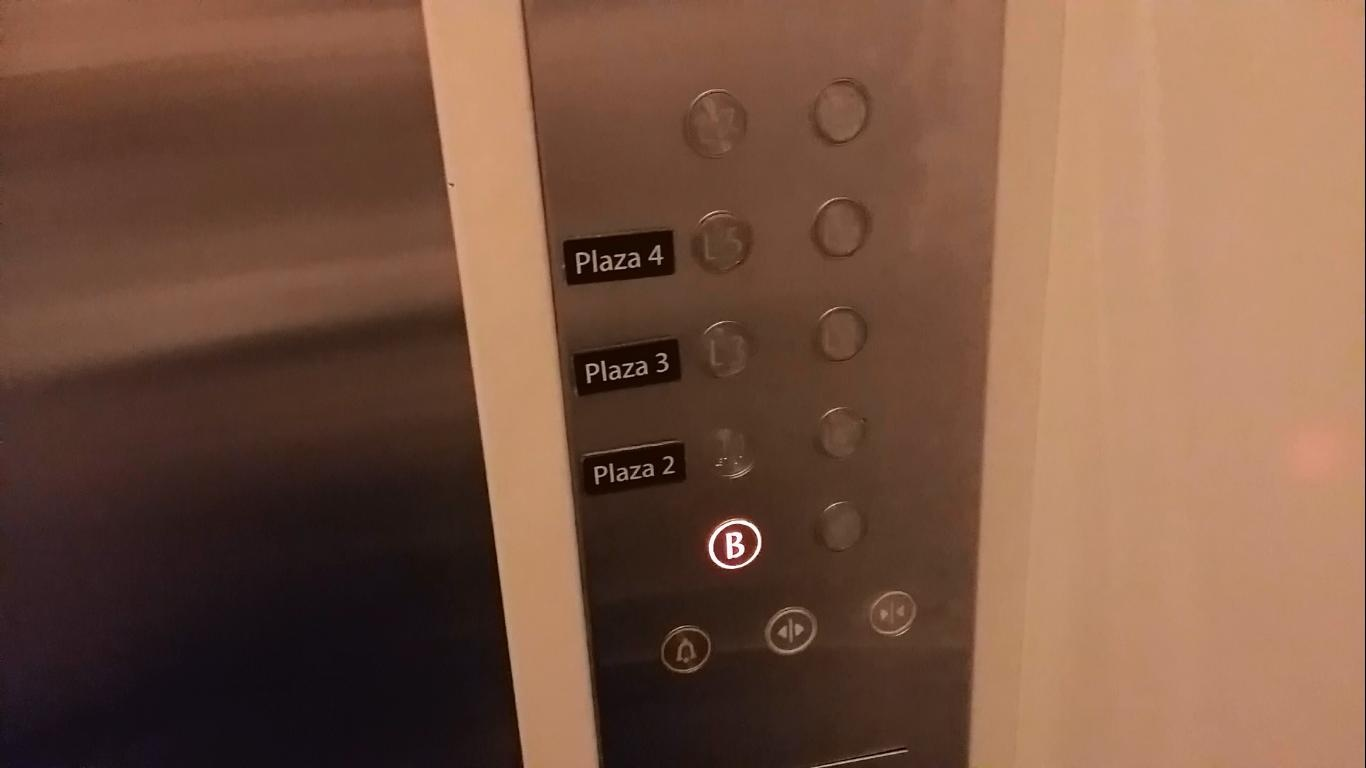B: (704, 515, 765, 572)
L3: (695, 319, 758, 380)
L5: (690, 209, 753, 275)
alarm: (659, 623, 713, 675)
blur: (684, 87, 748, 160), (809, 75, 871, 145), (810, 196, 871, 261), (701, 423, 761, 481), (814, 305, 869, 364), (815, 405, 869, 463), (814, 499, 869, 554)
close: (868, 589, 918, 639)
open: (763, 605, 818, 657)
